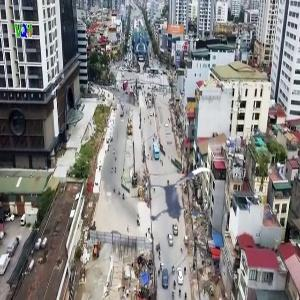drone: (137, 158, 228, 249)
